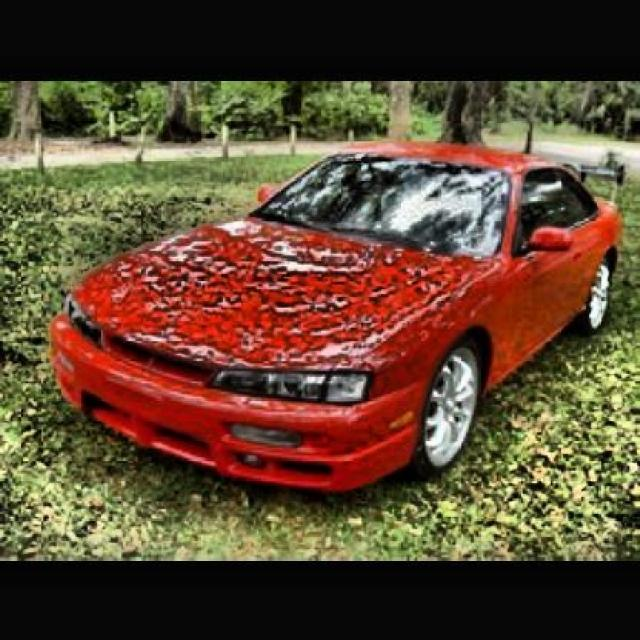red: (43, 121, 624, 493)
